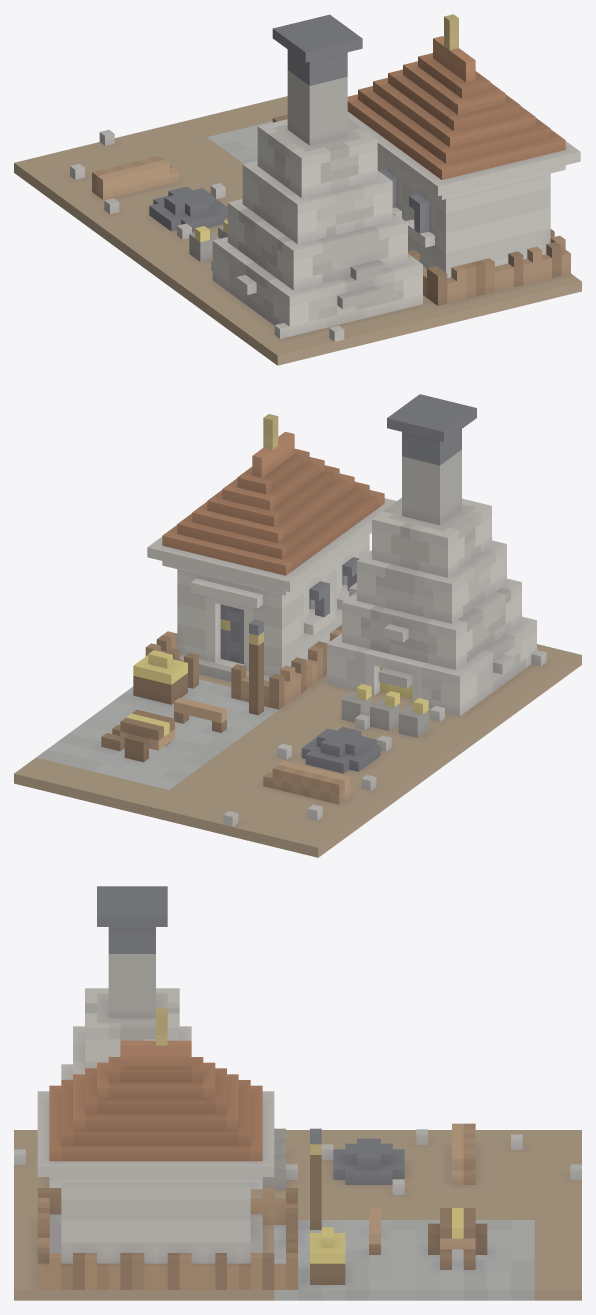
Rendered from gold_smelter.glb.
The picture shows the model from 3 angles, top to bottom: view 1: azimuth 30°, elevation 25°; view 2: azimuth 150°, elevation 25°; view 3: azimuth 270°, elevation 25°; orthographic projection. The views are drawn at different scales.
Parts seen in each view (by area): view 1: gold_smelter; view 2: gold_smelter; view 3: gold_smelter.
Boxes of the visible parts, x1=… form: gold_smelter: x1=14, y1=14, x2=581, y2=365; gold_smelter: x1=14, y1=394, x2=581, y2=857; gold_smelter: x1=14, y1=886, x2=581, y2=1300.
Bounding box in the file's own units: 4.12 × 3.38 × 6.
